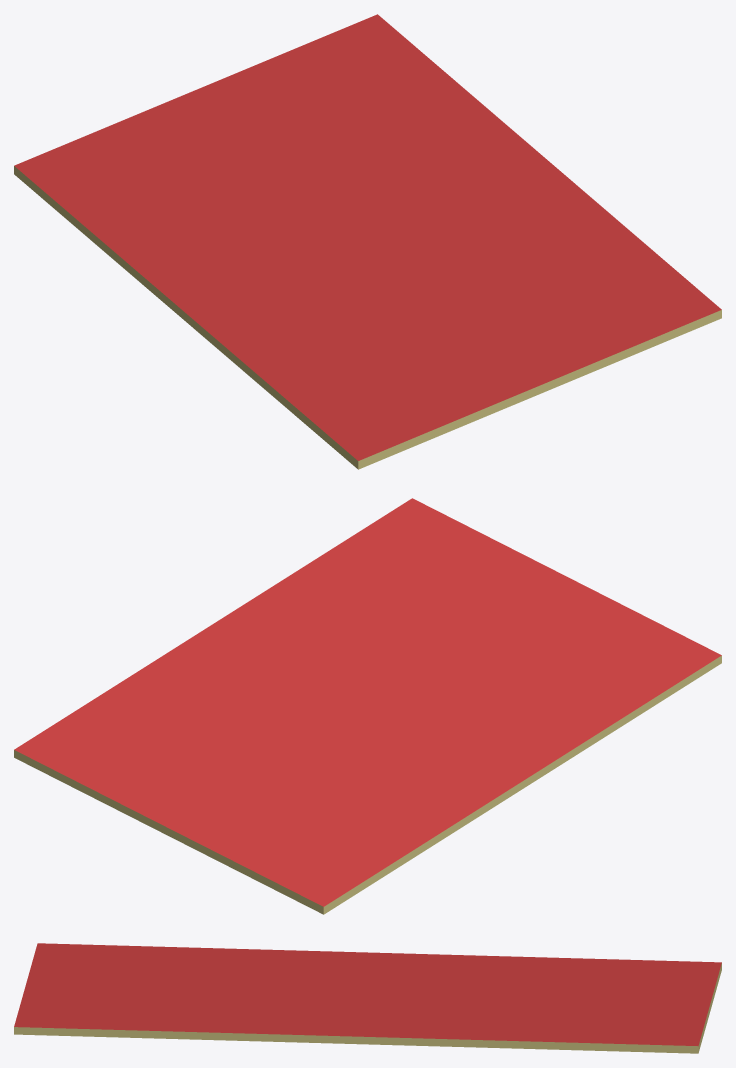
3 renders of one model, top to bottom at view 1: azimuth 30°, elevation 25°; view 2: azimuth 150°, elevation 25°; view 3: azimuth 270°, elevation 25°, orthographic. The views are drawn at different scales.
Size of the model in its own units: 4.83 by 8.52 by 0.985.
